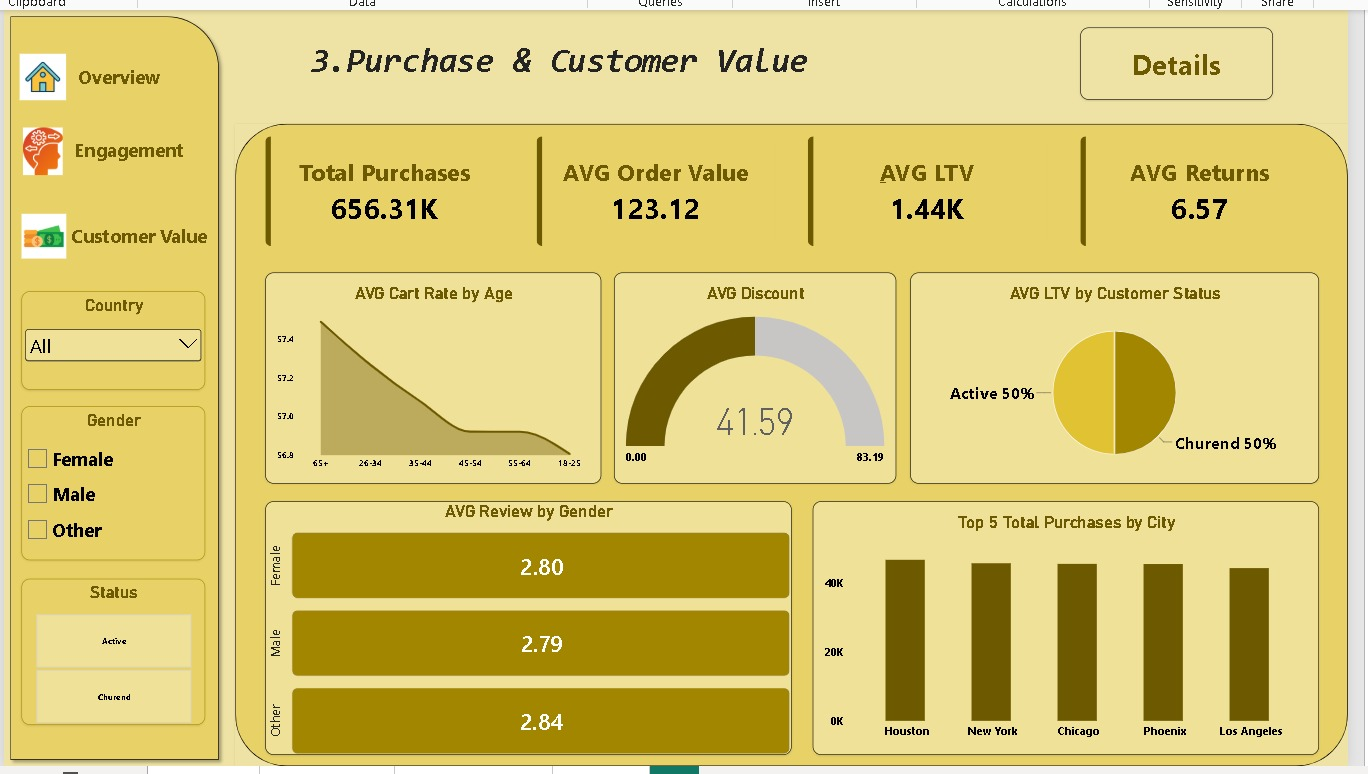

This screenshot's page, from the dashboard's own definition file:
{"tool":"powerbi","page":{"name":"Customer Value","canvas":[1920,1080],"ordinal":2},"visuals":[{"type":"shape","box":[330.4,162.5,1589.3,917.9],"z":0},{"type":"shape","box":[0,0,316.1,1080.4],"z":1000},{"type":"cardVisual","fields":{"Data":["Customer Value.Total Purchases"]},"box":[372.9,180,341.1,157.1],"z":2000},{"type":"cardVisual","fields":{"Data":["Customer Value.AVG Order Value"]},"box":[761,180,341.1,157.1],"z":3000},{"type":"cardVisual","fields":{"Data":["Customer Overview.ِAVG LTV"]},"box":[1149.1,180,341.1,157.1],"z":4000},{"type":"cardVisual","fields":{"Data":["Customer Value.AVG Returns"]},"box":[1537.2,180,341.1,157.1],"z":5000},{"type":"stackedAreaChart","title":"AVG Cart Rate by Age","fields":{"Category":["Data.Age Group"],"Y":["Avg(Data.Cart_Abandonment_Rate)"]},"box":[373.2,375,480.4,301.8],"z":6000},{"type":"columnChart","title":"Top 5 Total Purchases  by City","fields":{"Category":["Data.City"],"Y":["Customer Value.Total Purchases"]},"box":[1155.4,701.8,723.2,362.5],"z":7000},{"type":"pieChart","title":"AVG LTV by Customer Status","fields":{"Category":["Data.Customer Type"],"Y":["Customer Overview.ِAVG LTV"]},"box":[1294.6,375,583.9,301.8],"z":8000},{"type":"cardVisual","title":"AVG Review by Gender","fields":{"Data":["Avg(Data.Product_Reviews_Written)"],"Rows":["Data.Gender"]},"box":[373.2,701.8,751.8,362.5],"z":9000},{"type":"gauge","title":"AVG Discount ","fields":{"Y":["Avg(Data.Discount_Usage_Rate)"]},"box":[871.4,375,403.6,301.8],"z":10000},{"type":"actionButton","title":"Overv","box":[26.8,44.6,275,103.6],"z":12000},{"type":"actionButton","title":"Overv","box":[69.6,271.4,246.4,103.6],"z":13000},{"type":"actionButton","title":"Overv","box":[41.1,148.2,275,103.6],"z":14000},{"type":"image","box":[14.3,62.5,82.1,66.1],"z":15000},{"type":"slicer","title":"Gender","fields":{"Values":["Data.Gender"]},"box":[25,566.1,262.5,219.6],"z":17000},{"type":"slicer","title":"Status","fields":{"Values":["Data.Customer Type"]},"box":[25,812.5,262.5,208.9],"z":18000},{"type":"textbox","box":[417.9,44.6,750,66.1],"z":19000},{"type":"slicer","title":"Country","fields":{"Values":["Data.Country"]},"box":[25,401.8,262.5,141.1],"z":19001},{"type":"image","box":[14.3,167.9,82.1,67.9],"z":19002},{"type":"image","box":[25,283.9,64.3,78.6],"z":19003},{"type":"actionButton","title":"Overv","box":[1537.5,25,275,103.6],"z":19004}]}

Visuals, with their boxes on the page's 1920x1080 design canvas (x1, y1, x2, y2). These are canvas units, not pixel positions in the 1368x774 screenshot, which may show the page scaled, cropped or inside an application window:
shape: (left=330, top=162, right=1920, bottom=1080)
shape: (left=0, top=0, right=316, bottom=1080)
cardVisual - Customer Value.Total Purchases: (left=373, top=180, right=714, bottom=337)
cardVisual - Customer Value.AVG Order Value: (left=761, top=180, right=1102, bottom=337)
cardVisual - Customer Overview.ِAVG LTV: (left=1149, top=180, right=1490, bottom=337)
cardVisual - Customer Value.AVG Returns: (left=1537, top=180, right=1878, bottom=337)
"AVG Cart Rate by Age" stackedAreaChart: (left=373, top=375, right=854, bottom=677)
"Top 5 Total Purchases  by City" columnChart: (left=1155, top=702, right=1879, bottom=1064)
"AVG LTV by Customer Status" pieChart: (left=1295, top=375, right=1878, bottom=677)
"AVG Review by Gender" cardVisual: (left=373, top=702, right=1125, bottom=1064)
"AVG Discount " gauge: (left=871, top=375, right=1275, bottom=677)
"Overv" actionButton: (left=27, top=45, right=302, bottom=148)
"Overv" actionButton: (left=70, top=271, right=316, bottom=375)
"Overv" actionButton: (left=41, top=148, right=316, bottom=252)
image: (left=14, top=62, right=96, bottom=129)
"Gender" slicer: (left=25, top=566, right=288, bottom=786)
"Status" slicer: (left=25, top=812, right=288, bottom=1021)
textbox: (left=418, top=45, right=1168, bottom=111)
"Country" slicer: (left=25, top=402, right=288, bottom=543)
image: (left=14, top=168, right=96, bottom=236)
image: (left=25, top=284, right=89, bottom=362)
"Overv" actionButton: (left=1538, top=25, right=1812, bottom=129)
